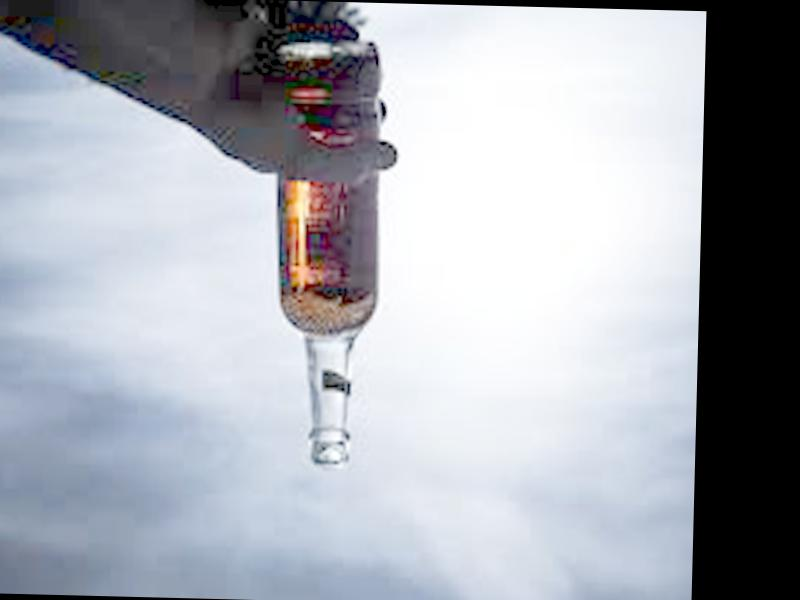Beer: (269, 45, 379, 467)
